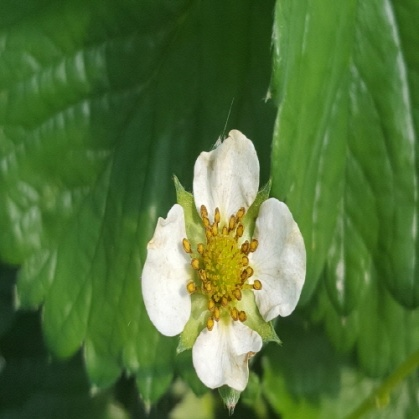Blossom_BT: (152, 202, 239, 333)
